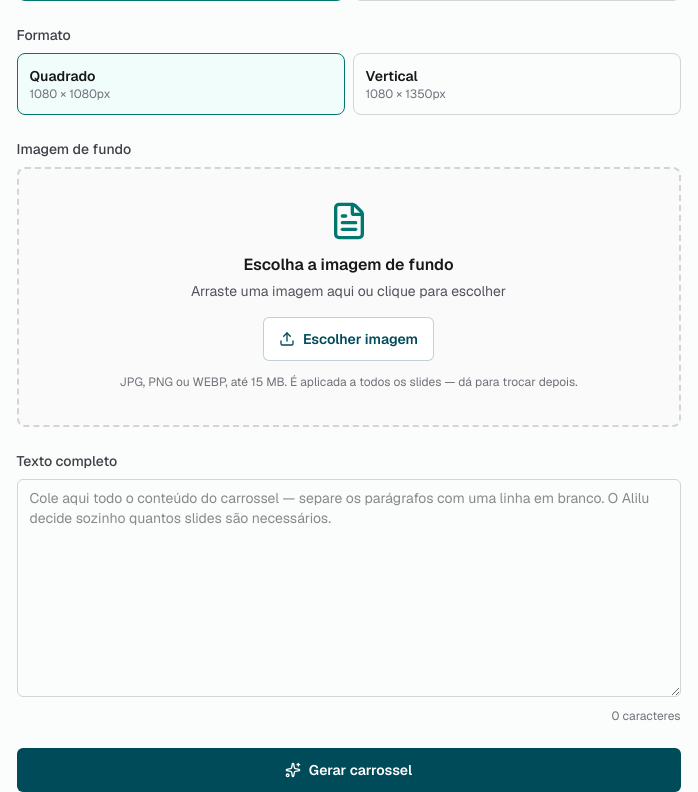
Test: CarouselQuickCreate — Estado 1 (Criação) › mostra a contagem de caracteres ao digitar
(page scrolled)
Replace the text in the text box labelled "Texto completo" with "Olá mundo" at x=348, y=588, box [16,478,680,696]
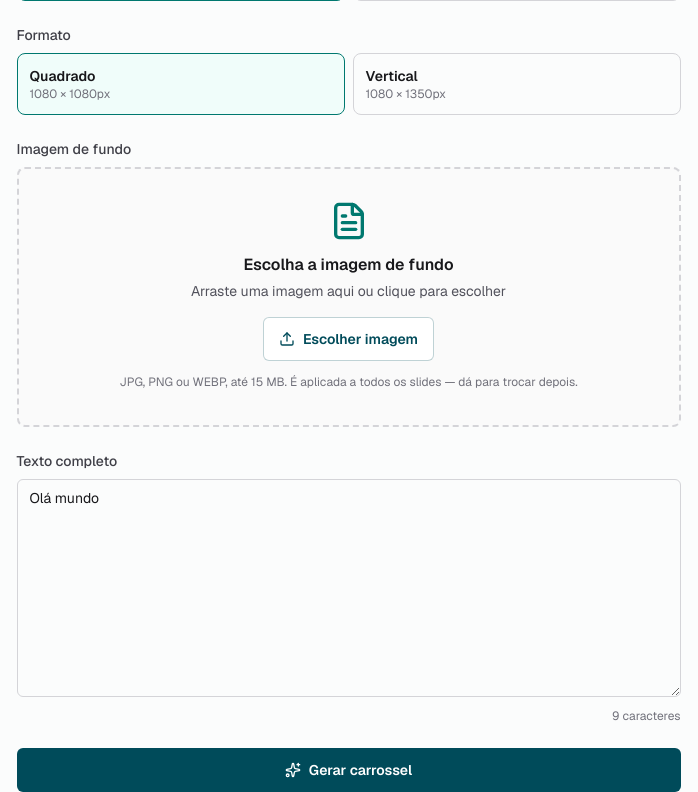
expect the text "9 caracteres" is shown: met, box [612,708,680,724]
